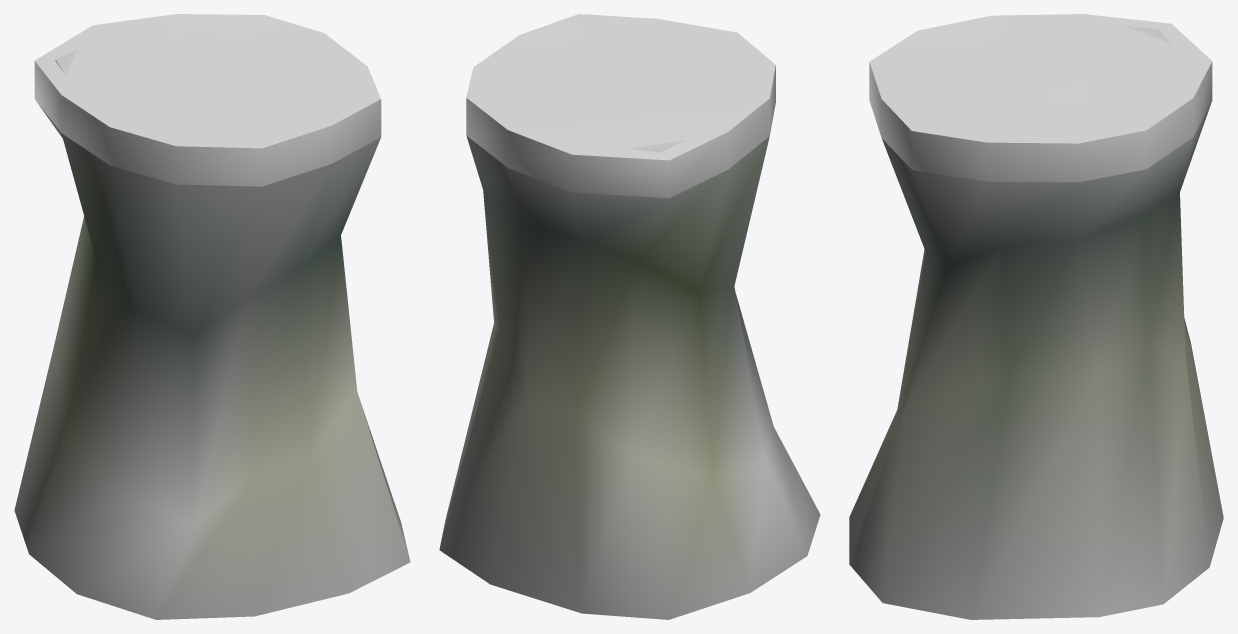
Rendered from GrassPillar.gltf.
3 views of the same model, side by side, from view 1: azimuth 30°, elevation 25°; view 2: azimuth 150°, elevation 25°; view 3: azimuth 270°, elevation 25° (orthographic). The views are drawn at different scales.
Visible parts, largest first — view 1: GrassPillarMesh, GrassPillarCollFloor, GrassPillarColWall; view 2: GrassPillarMesh, GrassPillarCollFloor, GrassPillarColWall; view 3: GrassPillarMesh, GrassPillarCollFloor, GrassPillarColWall.
Boxes of the visible parts, bbox=[...] form: GrassPillarMesh: bbox=[14, 49, 410, 619]; GrassPillarCollFloor: bbox=[35, 14, 380, 148]; GrassPillarColWall: bbox=[34, 61, 381, 186]; GrassPillarMesh: bbox=[439, 61, 820, 619]; GrassPillarCollFloor: bbox=[466, 14, 775, 160]; GrassPillarColWall: bbox=[466, 65, 775, 198]; GrassPillarMesh: bbox=[849, 25, 1223, 619]; GrassPillarCollFloor: bbox=[869, 14, 1212, 143]; GrassPillarColWall: bbox=[869, 62, 1212, 182].
Bounding box in the file's own units: 7.23 × 9.95 × 7.27.
